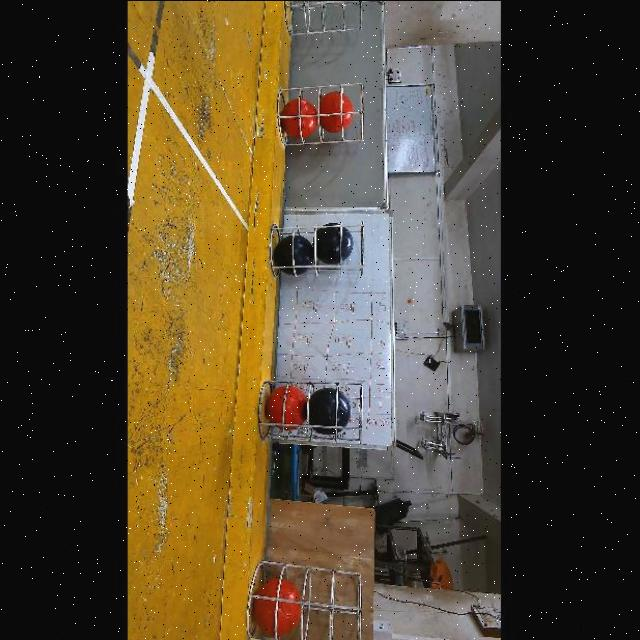P: (308, 386, 351, 436), (272, 234, 314, 275), (315, 222, 353, 265)
R: (253, 578, 301, 637), (264, 385, 307, 425), (280, 97, 316, 139), (320, 89, 352, 131)
S: (243, 558, 365, 640), (256, 380, 372, 448), (272, 80, 368, 158), (266, 212, 368, 276), (279, 0, 363, 38)
